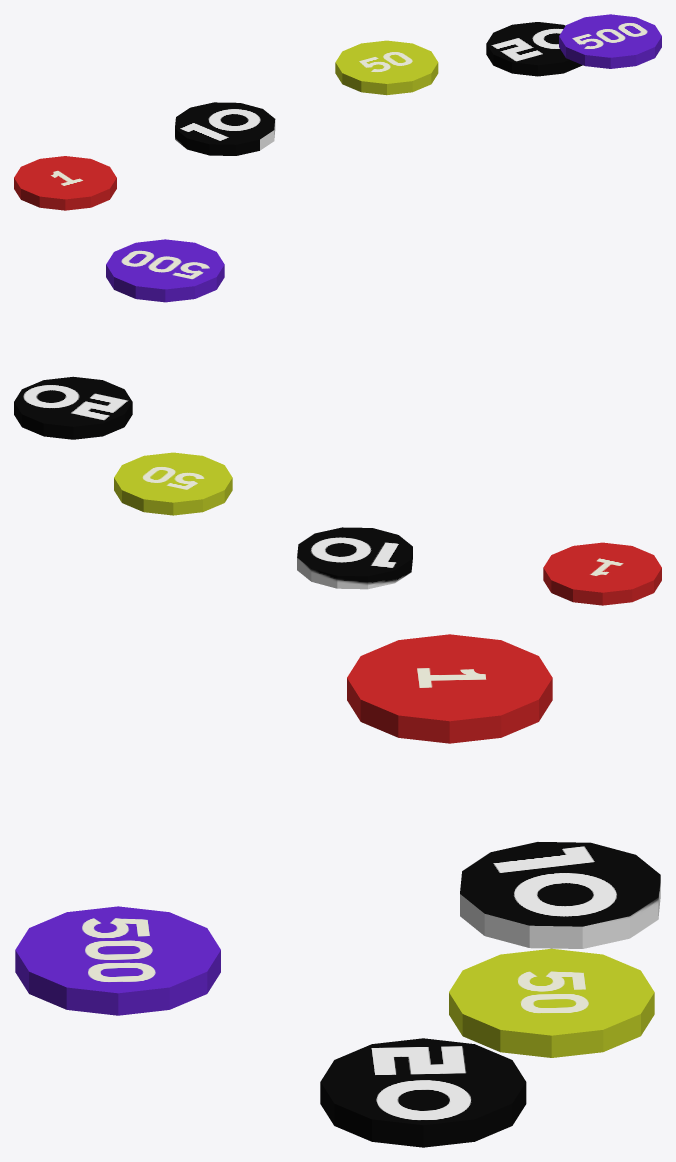
File: coins (2).fbx
3 views of the same model, one above another, from view 1: azimuth 30°, elevation 25°; view 2: azimuth 150°, elevation 25°; view 3: azimuth 270°, elevation 25° (orthographic). The views are drawn at different scales.
Visible parts, largest first — view 1: 50coin, 10coin, 200coin, 20coin, 500coin; view 2: 10coin, 50coin, 200coin, 500coin, 20coin; view 3: 500coin, 10coin, 200coin, 50coin, 20coin.
Boxes of the visible parts, box(x1,y1,x2,y2) form: 50coin: box(335, 40, 438, 95); 10coin: box(14, 156, 116, 210); 200coin: box(559, 14, 661, 68); 20coin: box(175, 102, 275, 155); 500coin: box(486, 22, 582, 76); 10coin: box(543, 542, 661, 605); 50coin: box(114, 452, 232, 515); 200coin: box(106, 239, 224, 302); 500coin: box(14, 376, 132, 439); 20coin: box(297, 527, 412, 589); 500coin: box(320, 1038, 526, 1147); 10coin: box(347, 634, 552, 743); 200coin: box(15, 906, 220, 1015); 50coin: box(449, 948, 654, 1057); 20coin: box(460, 842, 660, 948).
Bounding box in the file's own units: 82.22 × 15.94 × 41.4.
